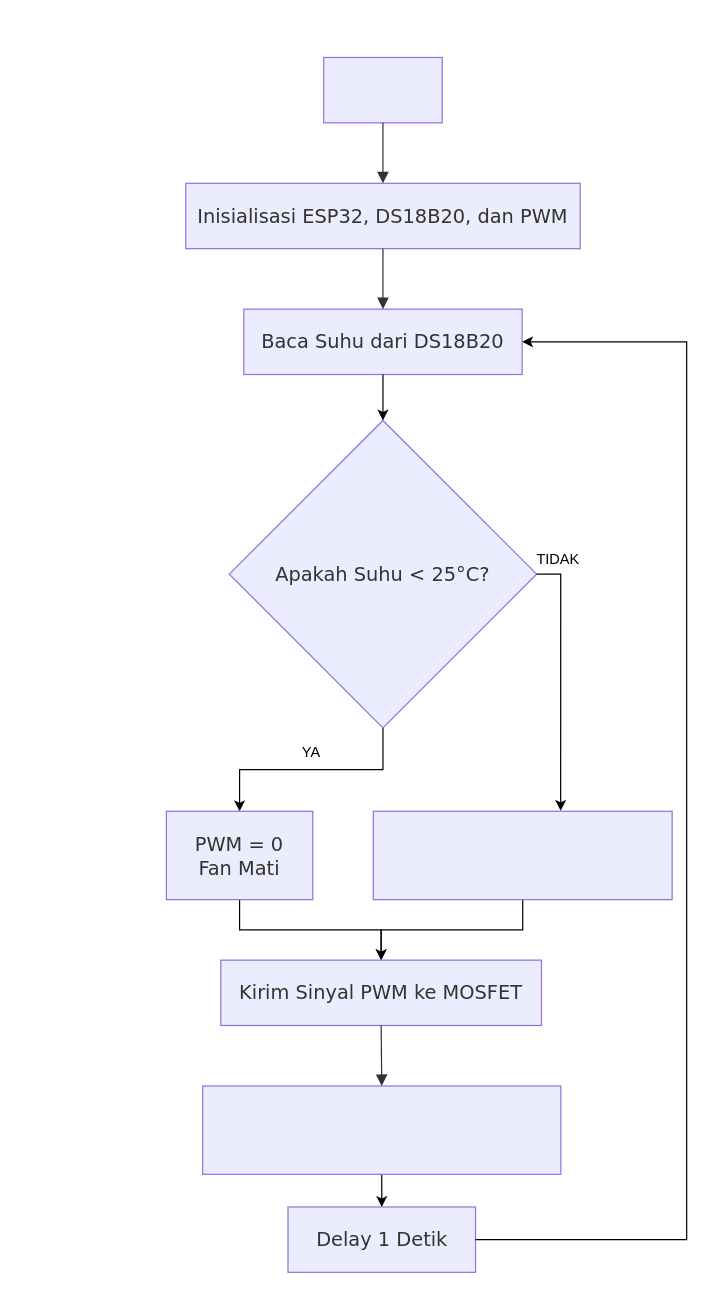
Some shapes in this 718 by 1293 pixel diagram are drawn without their labels. Here are the shapes that lost their labels. From the top down, the box of each, then its label:
(322, 56, 442, 123): Mulai
(372, 810, 672, 900): Hitung PWM Secara Linear 25-40°C → 0-255
(201, 1085, 561, 1174): Tampilkan Data ke Serial Monitor Suhu, PWM, Status
